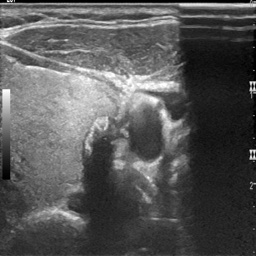mass: (82, 116, 116, 189)
